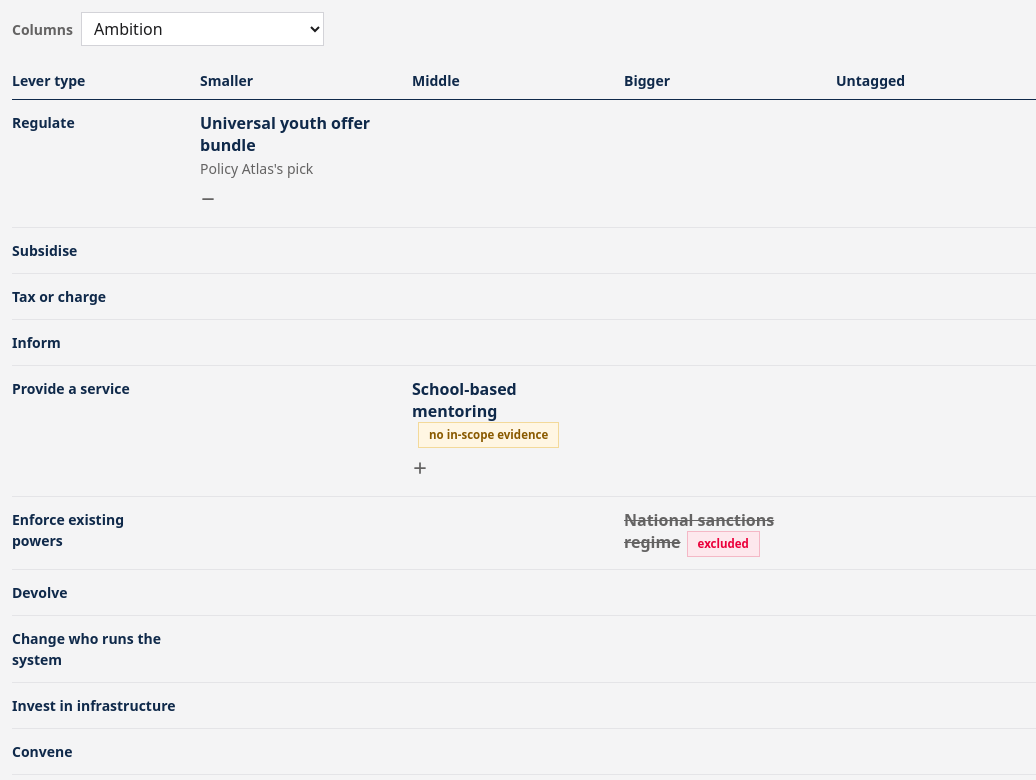
it: LonglistGrid › re-columns the grid on the chosen line and places options by their mark
The image size is (1036, 780).
Select "Cost" in the dropdown labelled "Columns". click: [202, 29]
box: [81, 12, 324, 46]
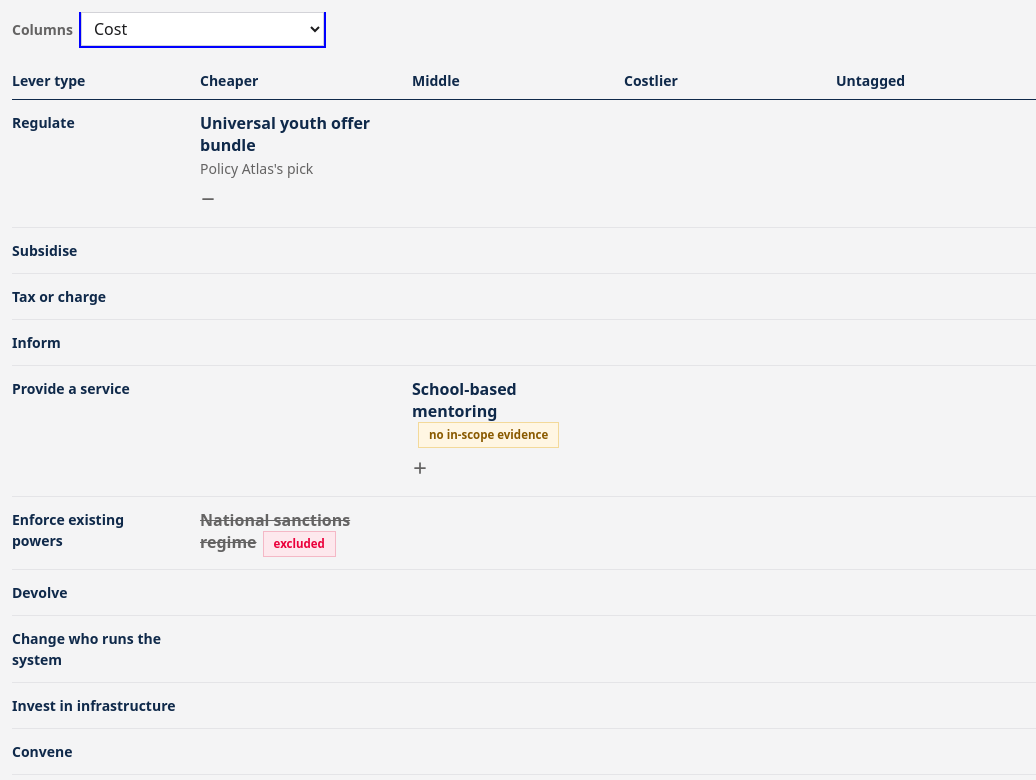
Expected: the column headings read "Lever type", "Cheaper", "Middle", "Costlier", "Untagged", in this order, [12, 62, 188, 100]; [188, 62, 400, 100]; [400, 62, 612, 100]; [612, 62, 824, 100]; [824, 62, 1035, 100]
Select "Delivery complexity" in the dropdown labelled "Columns". click: [202, 29]
box: [81, 12, 324, 46]
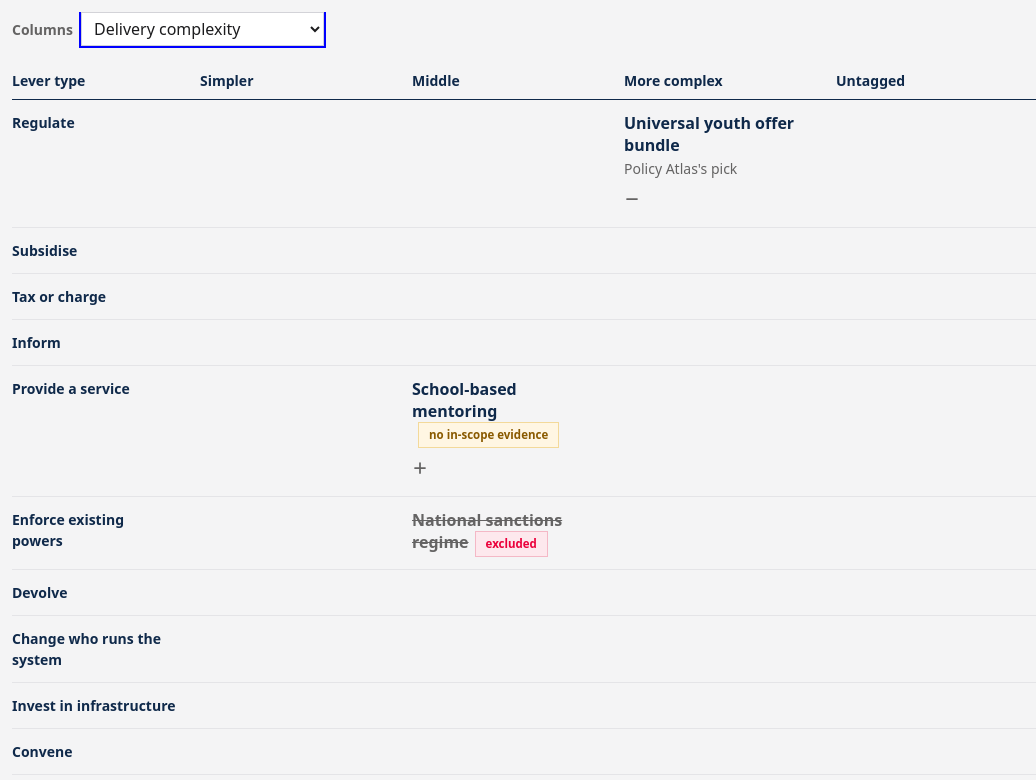
Expected: the column heading "More complex" is shown, [612, 62, 824, 100]
